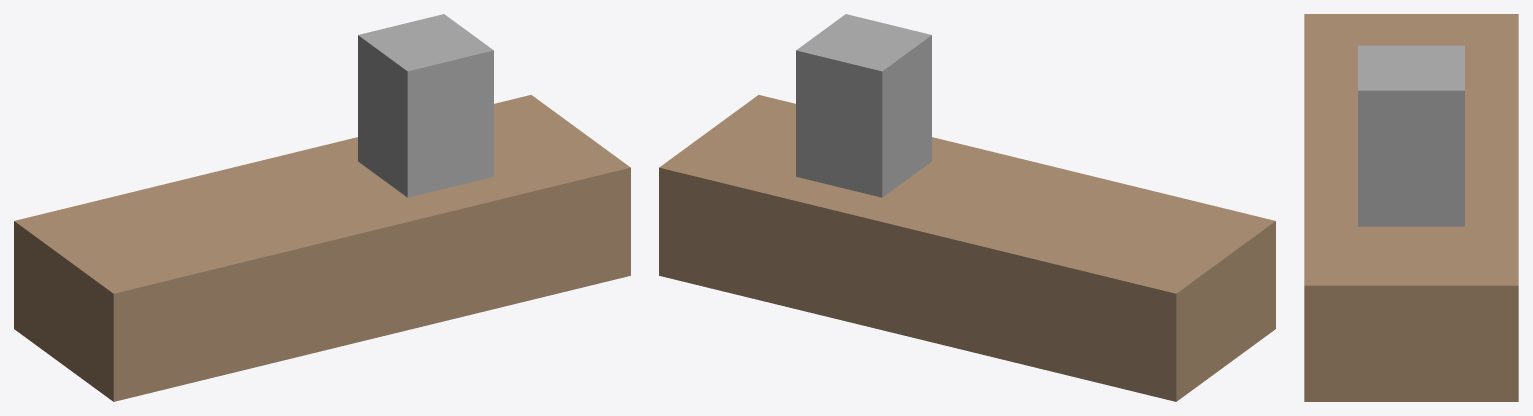
File: dock_finger_pedestal.glb
3 views of the same model, side by side, from view 1: azimuth 30°, elevation 25°; view 2: azimuth 150°, elevation 25°; view 3: azimuth 270°, elevation 25° (orthographic). The views are drawn at different scales.
Visible parts, largest first — view 1: finger, pedestal; view 2: finger, pedestal; view 3: finger, pedestal.
Boxes of the visible parts, x1,y1,x2,y2 form: finger: [14, 95, 630, 401]; pedestal: [358, 14, 493, 197]; finger: [659, 95, 1275, 401]; pedestal: [796, 14, 931, 197]; finger: [1304, 14, 1518, 401]; pedestal: [1358, 45, 1464, 226].
Size of the model in its own units: 3 by 1.3 by 1.
